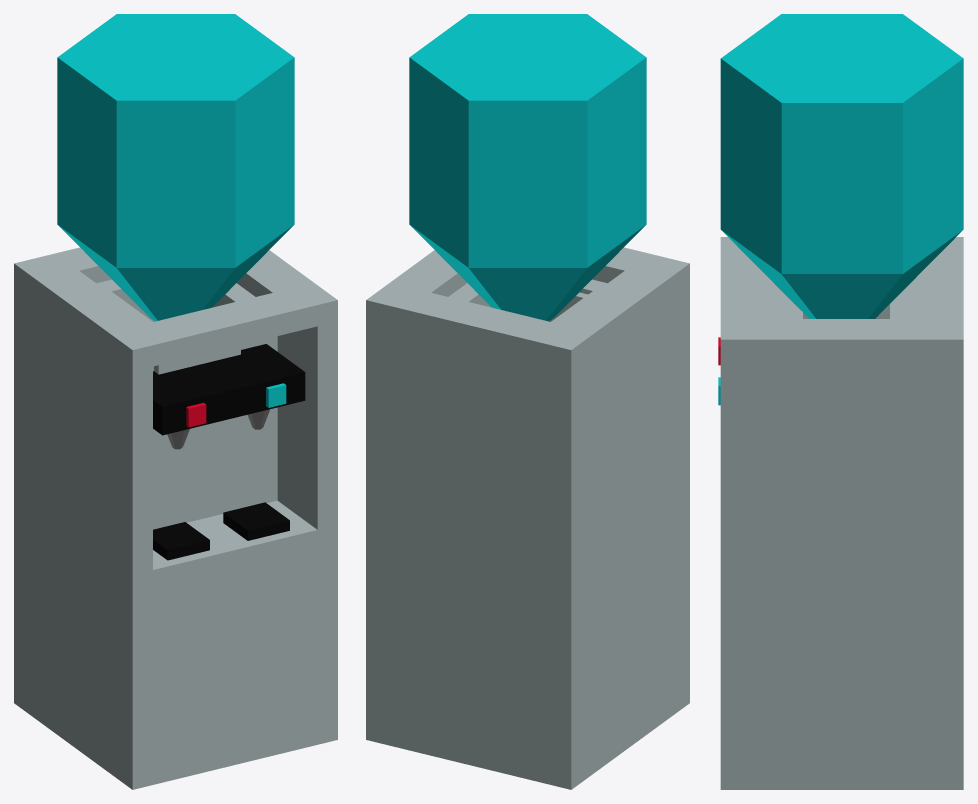
Rendered from DispensadorDeAgua.fbx.
The picture shows the model from 3 angles, left to right: view 1: azimuth 30°, elevation 25°; view 2: azimuth 150°, elevation 25°; view 3: azimuth 270°, elevation 25°; orthographic projection. The views are drawn at different scales.
Visible parts, largest first — view 1: Cube, Cilindro.002, Cubo.002, Cubo.001, Cubo; view 2: Cube, Cilindro.002; view 3: Cube, Cilindro.002.
Part boxes in pixels (<box>): Cube: <box>14,247,337,789</box>; Cilindro.002: <box>57,14,294,321</box>; Cubo.002: <box>153,344,305,435</box>; Cubo.001: <box>223,502,289,540</box>; Cubo: <box>153,522,209,560</box>; Cube: <box>366,247,689,789</box>; Cilindro.002: <box>409,14,646,321</box>; Cube: <box>720,237,963,789</box>; Cilindro.002: <box>720,14,963,318</box>.
Size of the model in its own units: 2 by 6.18 by 2.02.
